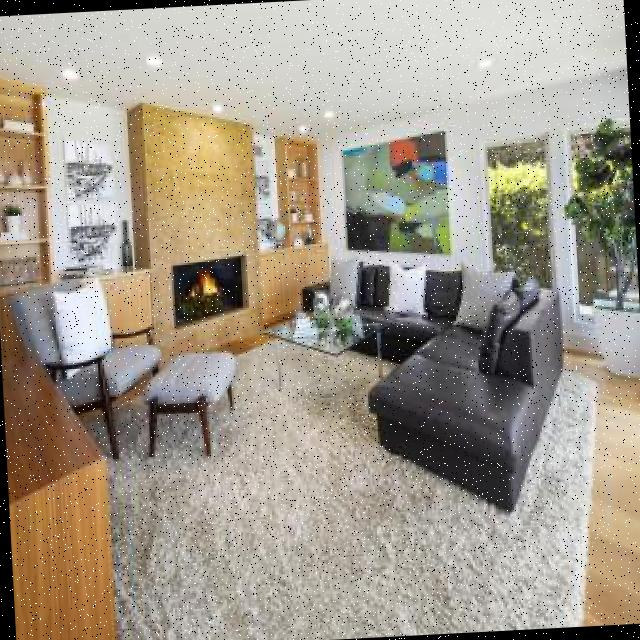fire: (178, 268, 225, 299)
